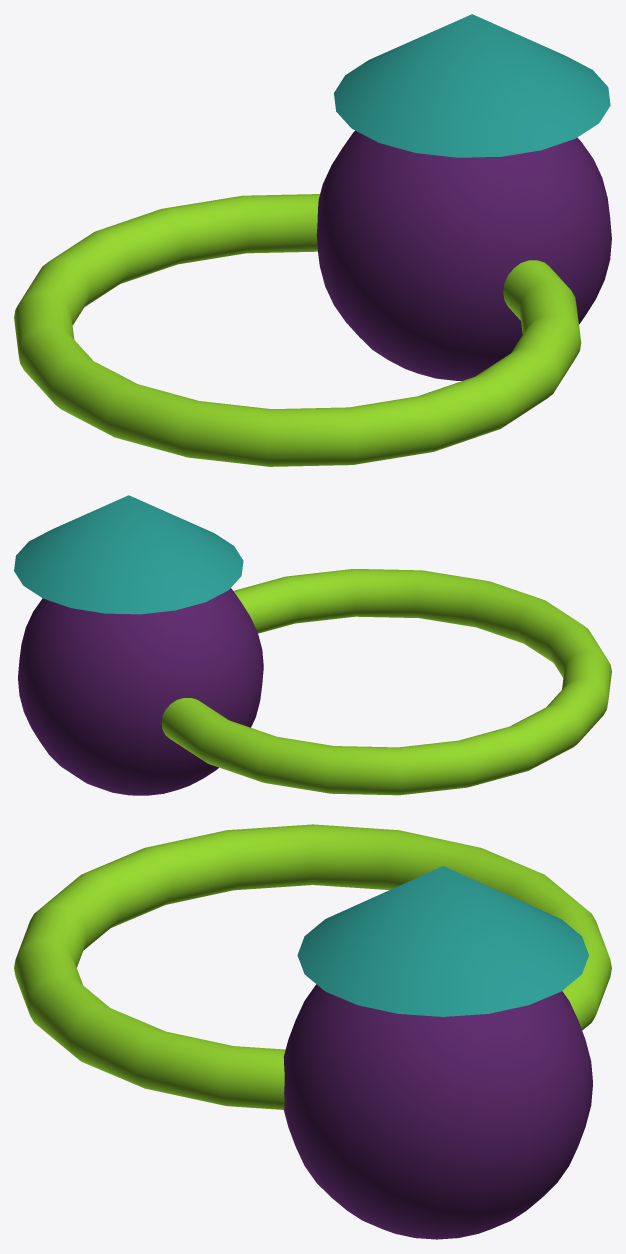
File: mytest1.obj
3 renders of one model, top to bottom at view 1: azimuth 30°, elevation 25°; view 2: azimuth 150°, elevation 25°; view 3: azimuth 270°, elevation 25°, orthographic. The views are drawn at different scales.
Parts seen in each view (by area): view 1: pTorus1, pSphere1, pCone1; view 2: pTorus1, pSphere1, pCone1; view 3: pSphere1, pTorus1, pCone1.
Boxes of the visible parts, box(x1,y1,x2,y2) form: pTorus1: box(14, 194, 581, 466); pSphere1: box(316, 130, 611, 380); pCone1: box(334, 14, 610, 157); pTorus1: box(161, 569, 611, 795); pSphere1: box(18, 588, 263, 795); pCone1: box(14, 495, 243, 614); pSphere1: box(283, 984, 592, 1239); pTorus1: box(14, 824, 611, 1109); pCone1: box(297, 866, 588, 1016).
Bounding box in the file's own units: 11.98 × 6.59 × 9.79.
